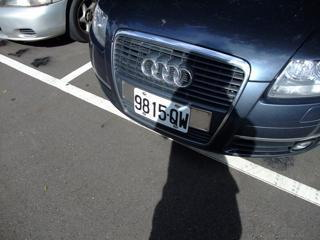plate: (131, 88, 193, 135)
